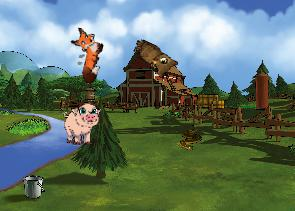fox: (62, 26, 108, 84)
owl: (126, 37, 180, 82)
pig: (62, 103, 101, 146)
